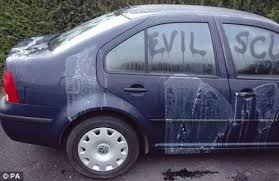Scratch: (162, 74, 237, 156), (63, 46, 108, 119), (241, 83, 276, 150)
